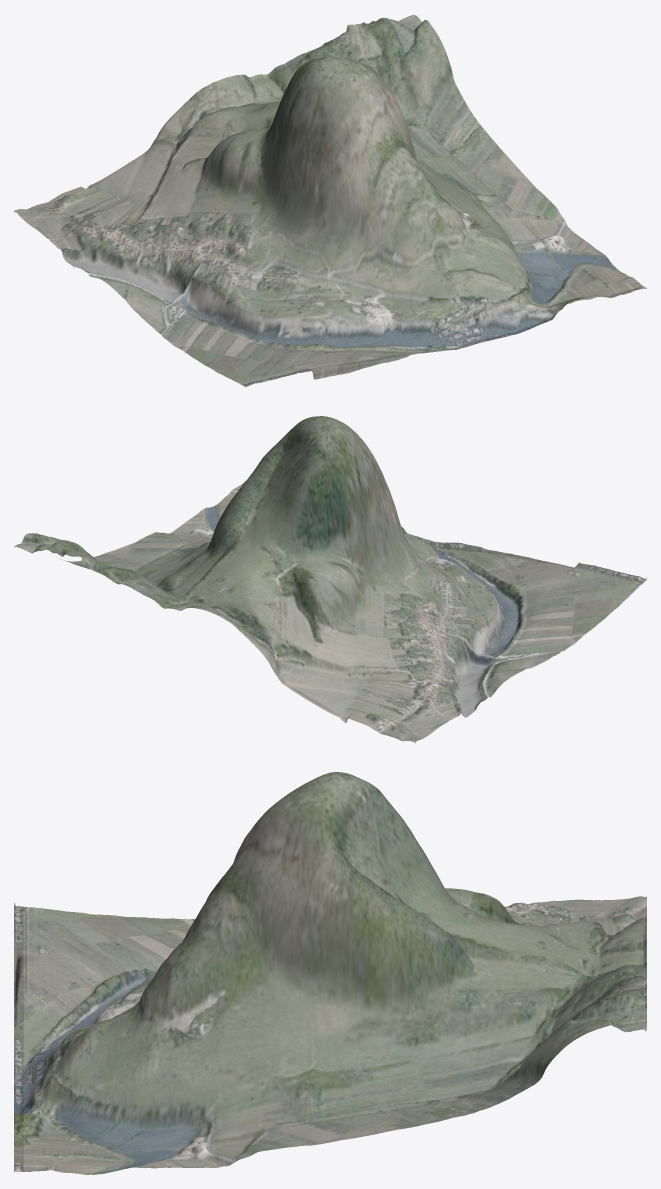
File: dsm_285a134fea_mesh.glb
3 views of the same model, one above another, from view 1: azimuth 30°, elevation 25°; view 2: azimuth 150°, elevation 25°; view 3: azimuth 270°, elevation 25° (orthographic). The views are drawn at different scales.
Parts seen in each view (by area): view 1: geometry_0; view 2: geometry_0; view 3: geometry_0.
Boxes of the visible parts, left/top/right/bottom form: geometry_0: left=14, top=14, right=646, bottom=386; geometry_0: left=14, top=416, right=646, bottom=743; geometry_0: left=14, top=772, right=646, bottom=1174.
Bounding box in the file's own units: 2 × 1 × 2.
